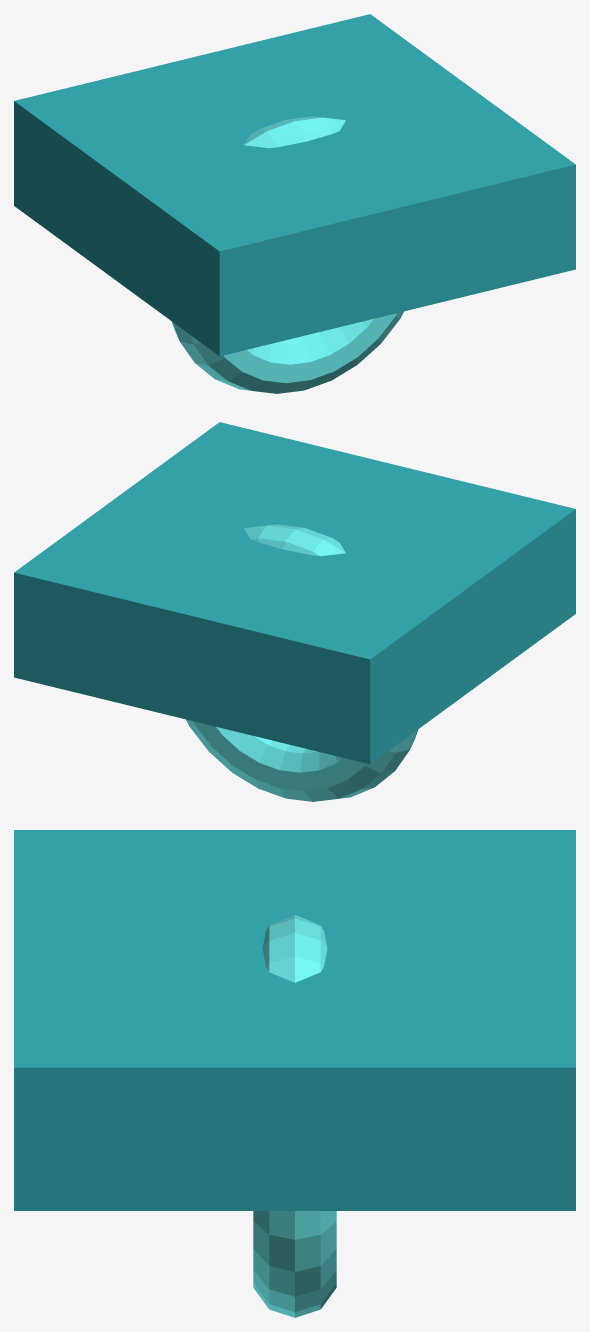
Rendered from leak-detector.glb.
3 renders of one model, top to bottom at view 1: azimuth 30°, elevation 25°; view 2: azimuth 150°, elevation 25°; view 3: azimuth 270°, elevation 25°, orthographic. The views are drawn at different scales.
Parts seen in each view (by area): view 1: world; view 2: world; view 3: world.
Boxes of the visible parts, box(x1,y1,x2,y2) form: world: box(14, 14, 575, 393); world: box(14, 422, 575, 801); world: box(14, 830, 575, 1317).
Size of the model in its own units: 0.32 by 0.23 by 0.32.
